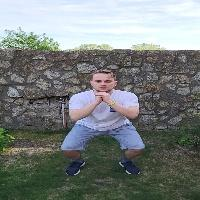squats: (47, 63, 160, 181)
